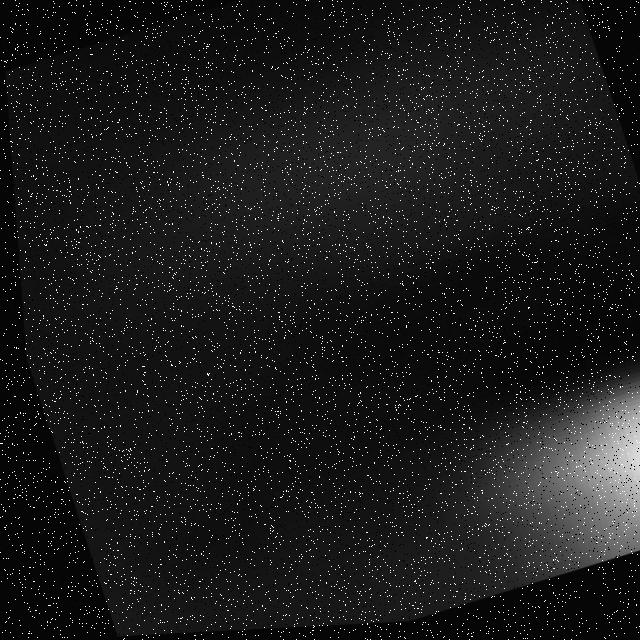person: (414, 345, 640, 605)
